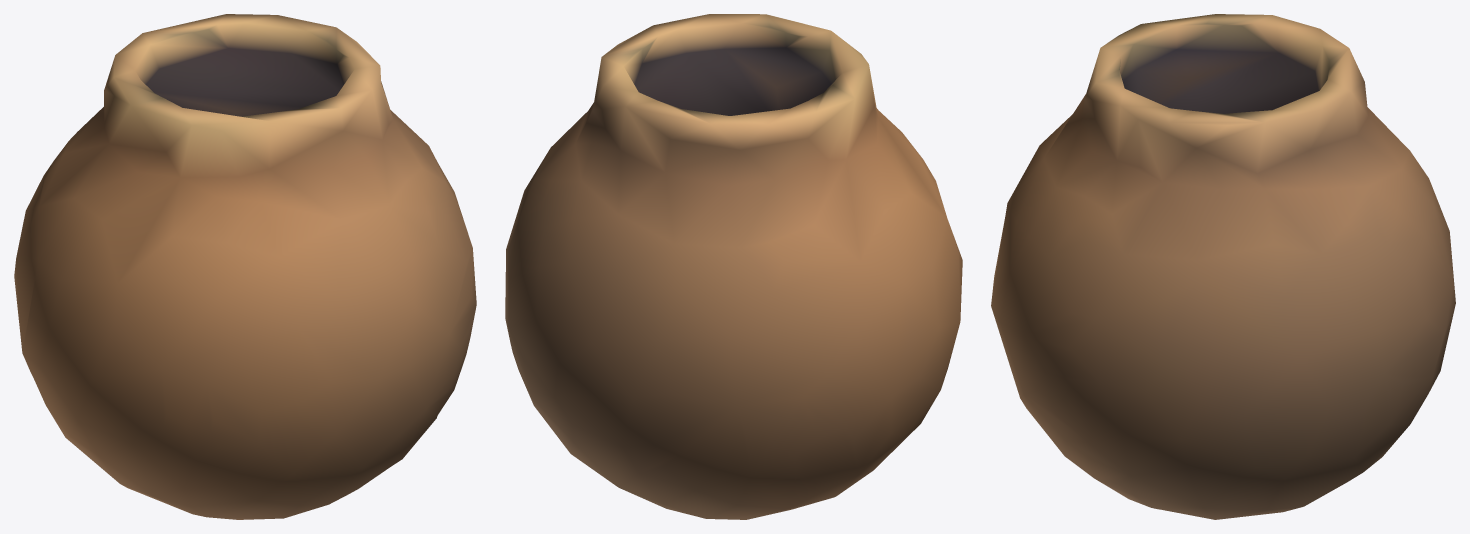
The model's file is env_p_pot.glb.
The picture shows the model from 3 angles, left to right: view 1: azimuth 30°, elevation 25°; view 2: azimuth 150°, elevation 25°; view 3: azimuth 270°, elevation 25°; orthographic projection.
Parts seen in each view (by area): view 1: geometry_0; view 2: geometry_0; view 3: geometry_0.
Part boxes in pixels (x1=…): geometry_0: x1=14, y1=14, x2=476, y2=519; geometry_0: x1=505, y1=14, x2=962, y2=519; geometry_0: x1=991, y1=14, x2=1455, y2=519.
Size of the model in its own units: 0.662 by 0.6812 by 0.6643.
